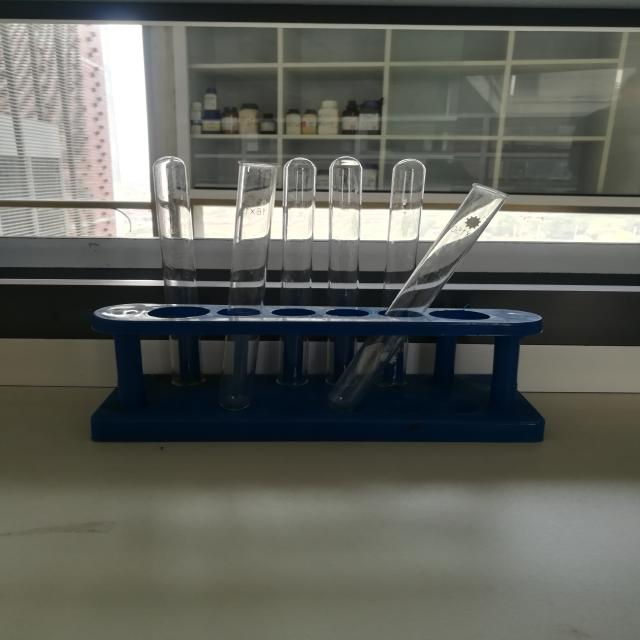Test_Tube: (125, 120, 528, 442)
